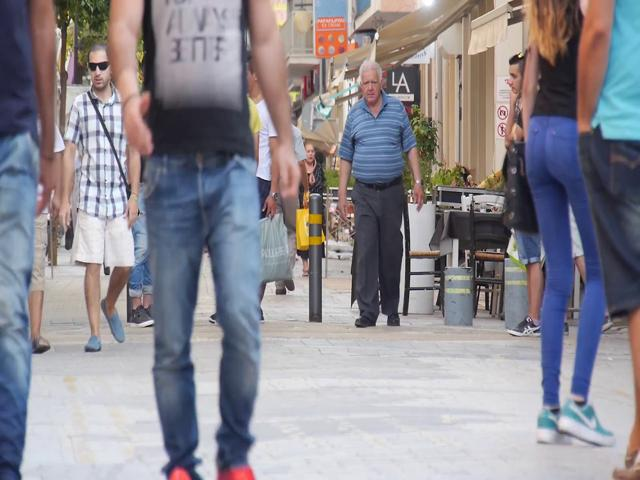shoe: (558, 400, 614, 446), (536, 408, 571, 444), (102, 300, 126, 343), (507, 317, 542, 337), (127, 306, 154, 326), (354, 315, 376, 327), (85, 336, 101, 352), (385, 312, 400, 326)
